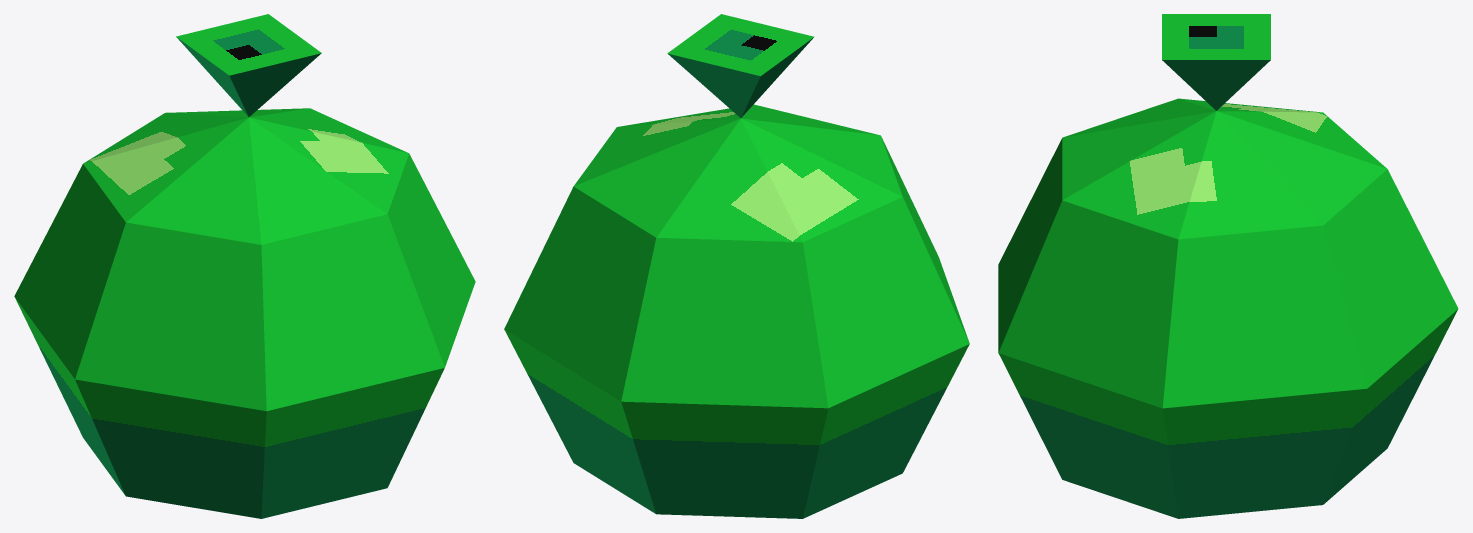
The model's file is Bomb.fbx.
The picture shows the model from 3 angles, left to right: view 1: azimuth 30°, elevation 25°; view 2: azimuth 150°, elevation 25°; view 3: azimuth 270°, elevation 25°; orthographic projection.
Visible parts, largest first — view 1: sphere, pyramid; view 2: sphere, pyramid; view 3: sphere, pyramid.
Part boxes in pixels (x1,y1,x2,y2): sphere: (14,108,475,518); pyramid: (176,14,321,116); sphere: (504,104,969,518); pyramid: (667,14,814,117); sphere: (998,98,1458,518); pyramid: (1162,14,1270,110).
Size of the model in its own units: 108 by 119 by 105.
Materials: 1 (1 with a texture image).
